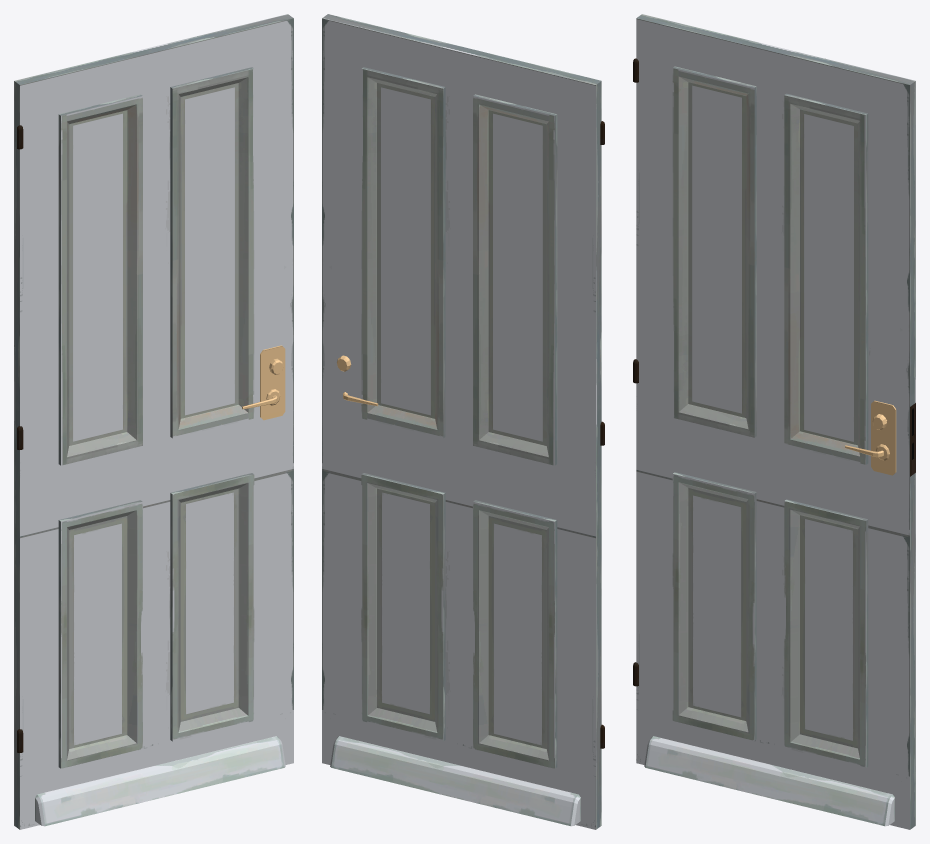
Rendered from PuertaB1_Fachada.obj.
3 views of the same model, side by side, from view 1: azimuth 30°, elevation 25°; view 2: azimuth 150°, elevation 25°; view 3: azimuth 330°, elevation 25° (orthographic).
Parts seen in each view (by area): view 1: PuertaB1_Fachada; view 2: PuertaB1_Fachada; view 3: PuertaB1_Fachada.
Boxes of the visible parts, x1=… form: PuertaB1_Fachada: x1=14, y1=14, x2=293, y2=829; PuertaB1_Fachada: x1=322, y1=14, x2=604, y2=829; PuertaB1_Fachada: x1=633, y1=14, x2=915, y2=829.
Bounding box in the file's own units: 1.07 × 2.76 × 0.1485.
Materials: 2 (2 with a texture image).
